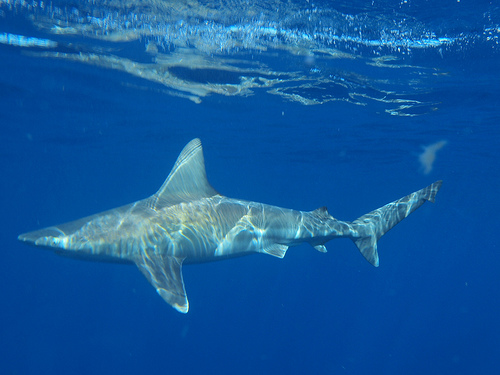shark: (3, 128, 447, 324)
